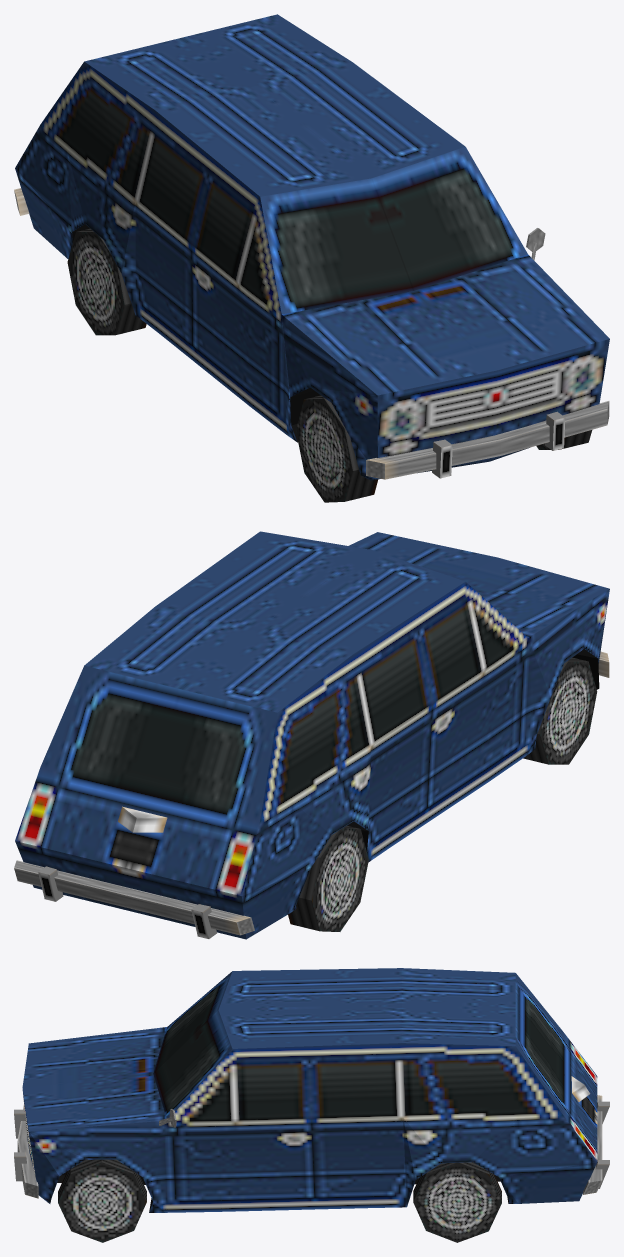
Rendered from Auto2azul.fbx.
The picture shows the model from 3 angles, top to bottom: view 1: azimuth 30°, elevation 25°; view 2: azimuth 150°, elevation 25°; view 3: azimuth 270°, elevation 25°; orthographic projection. The views are drawn at different scales.
Parts seen in each view (by area): view 1: Car; view 2: Car; view 3: Car.
Part boxes in pixels (x1=…): Car: x1=14, y1=14, x2=609, y2=502; Car: x1=14, y1=531, x2=609, y2=939; Car: x1=14, y1=968, x2=609, y2=1242.
Bounding box in the file's own units: 256 × 217 × 615.
